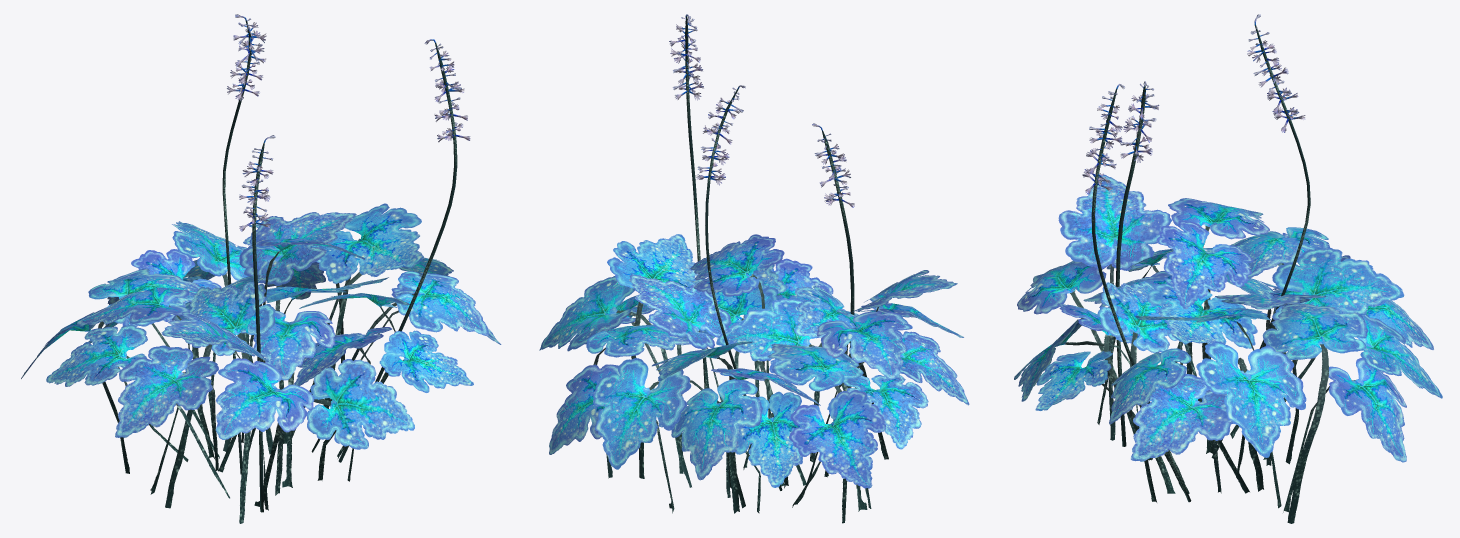
The model's file is flower_1.fbx.
3 renders of one model, left to right at view 1: azimuth 30°, elevation 25°; view 2: azimuth 150°, elevation 25°; view 3: azimuth 270°, elevation 25°, orthographic. The views are drawn at different scales.
Parts seen in each view (by area): view 1: _stoplight; view 2: _stoplight; view 3: _stoplight.
Part boxes in pixels (box(x1,y1,x2,y2)): _stoplight: box(21, 14, 501, 523); _stoplight: box(539, 14, 969, 523); _stoplight: box(1014, 14, 1442, 523).
Bounding box in the file's own units: 45.21 × 48.33 × 41.08.
